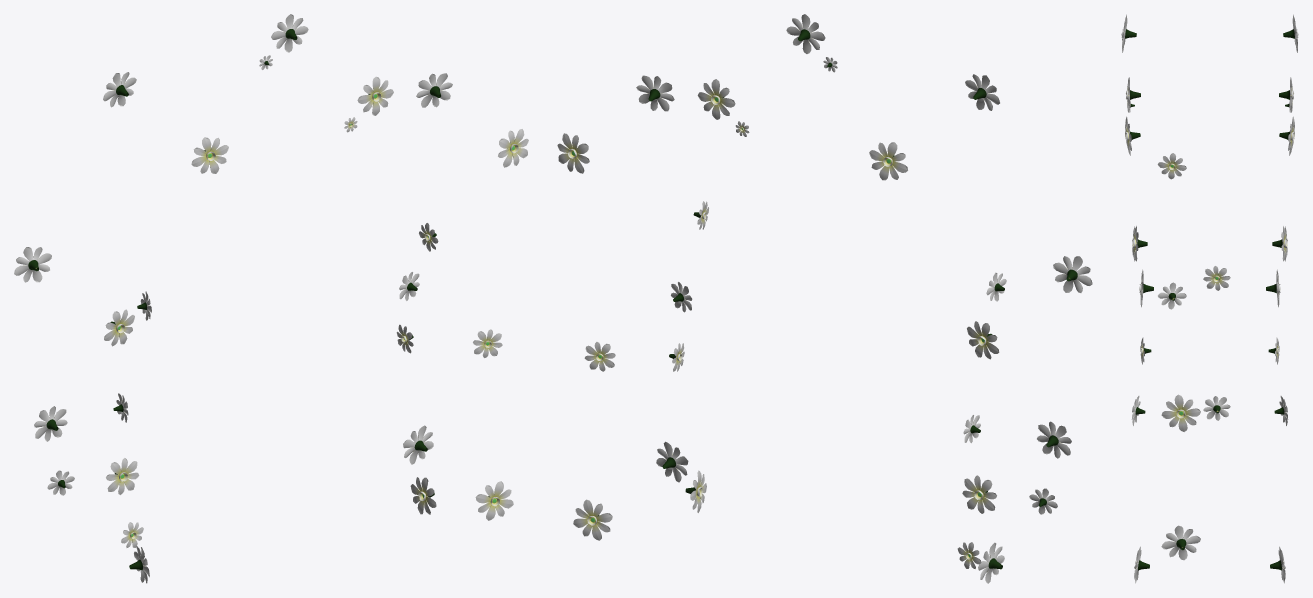
Rendered from hedgemaze_arch_open_flowers1.fbx.
The picture shows the model from 3 angles, left to right: view 1: azimuth 30°, elevation 25°; view 2: azimuth 150°, elevation 25°; view 3: azimuth 270°, elevation 25°; orthographic projection. The views are drawn at different scales.
Parts seen in each view (by area): view 1: pCube46; view 2: pCube46; view 3: pCube46.
Boxes of the visible parts, x1=… form: pCube46: x1=14, y1=14, x2=528, y2=583; pCube46: x1=557, y1=14, x2=1092, y2=583; pCube46: x1=1121, y1=14, x2=1298, y2=583.
Bounding box in the file's own units: 4.39 × 4.63 × 1.66.
